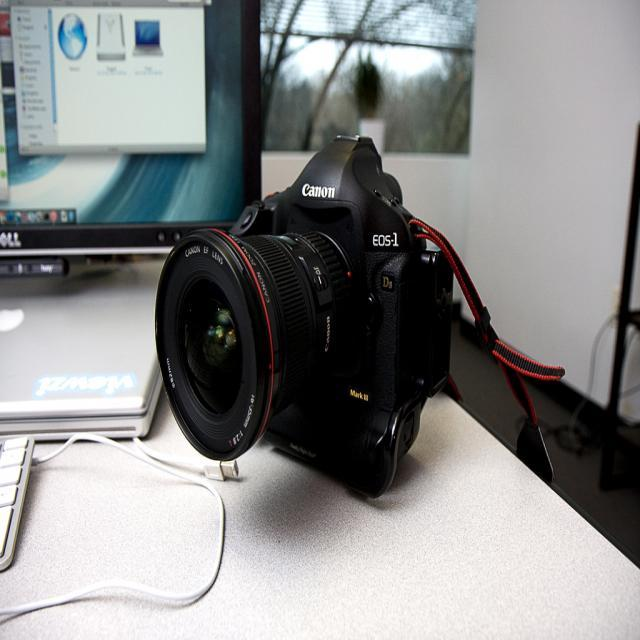others: (147, 131, 597, 543), (1, 1, 271, 418)
